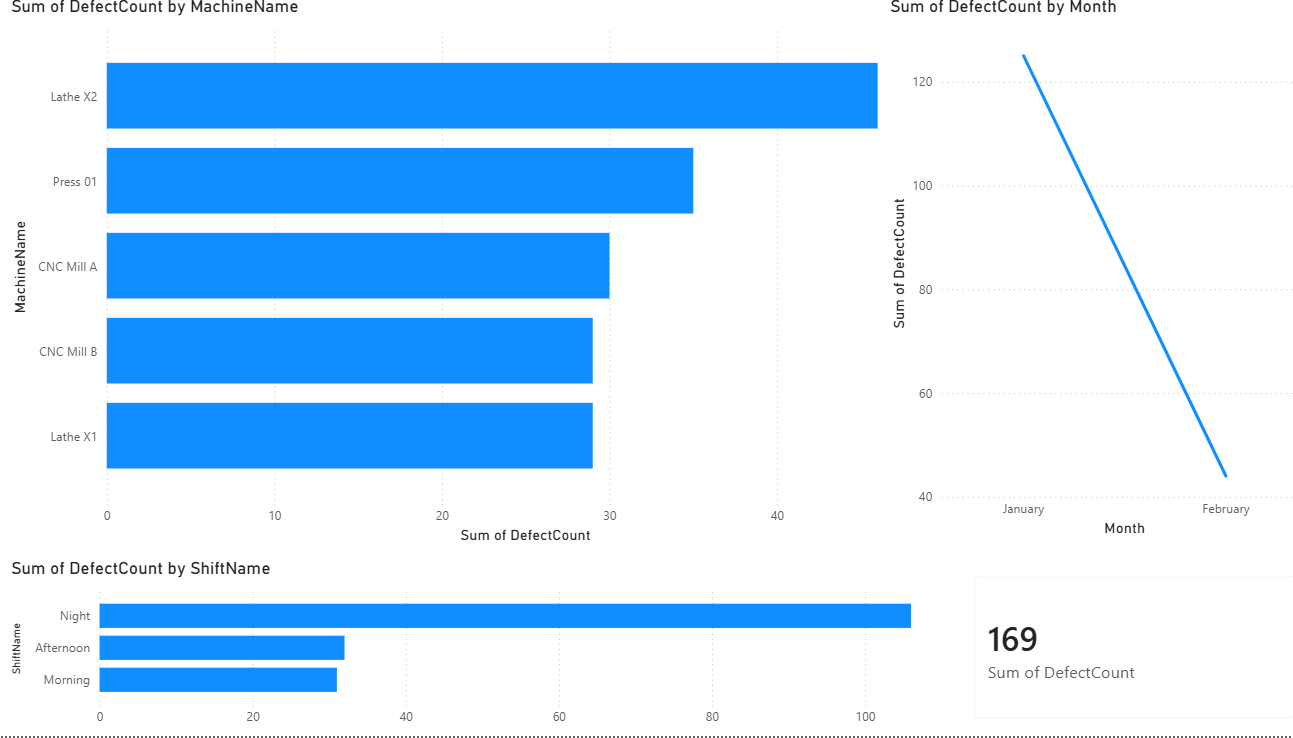

The dashboard page shown, as its layout file describes it:
{"tool":"powerbi","page":{"name":"Page 1","canvas":[1280,720],"ordinal":0},"visuals":[{"type":"barChart","fields":{"Category":["machine_defects.MachineName"],"Y":["Sum(machine_defects.DefectCount)"]},"box":[9.7,0,925,536.9],"z":0},{"type":"barChart","fields":{"Category":["shift_defects.ShiftName"],"Y":["Sum(shift_defects.DefectCount)"]},"box":[10,547,925,173],"z":1},{"type":"lineChart","fields":{"Category":["machine_defects.RunDate.Variation.Date Hierarchy.Month","machine_defects.RunDate.Variation.Date Hierarchy.Day"],"Y":["Sum(machine_defects.DefectCount)"]},"box":[864.7,0,415.3,530.1],"z":2},{"type":"cardVisual","fields":{"Data":["Sum(machine_defects.DefectCount)"]},"box":[935,547,345,173],"z":3}]}

Visuals, with their boxes in screenshot pixels (x1, y1, x2, y2), scaled from the page's 1280x720 canvas onto the 1293x738 screenshot:
barChart - machine_defects.MachineName x Sum(machine_defects.DefectCount): bbox=[10, 0, 944, 550]
barChart - shift_defects.ShiftName x Sum(shift_defects.DefectCount): bbox=[10, 561, 944, 737]
lineChart - machine_defects.RunDate.Variation.Date Hierarchy.Month x machine_defects.RunDate.Variation.Date Hierarchy.Day: bbox=[873, 0, 1292, 543]
cardVisual - Sum(machine_defects.DefectCount): bbox=[944, 561, 1292, 737]
